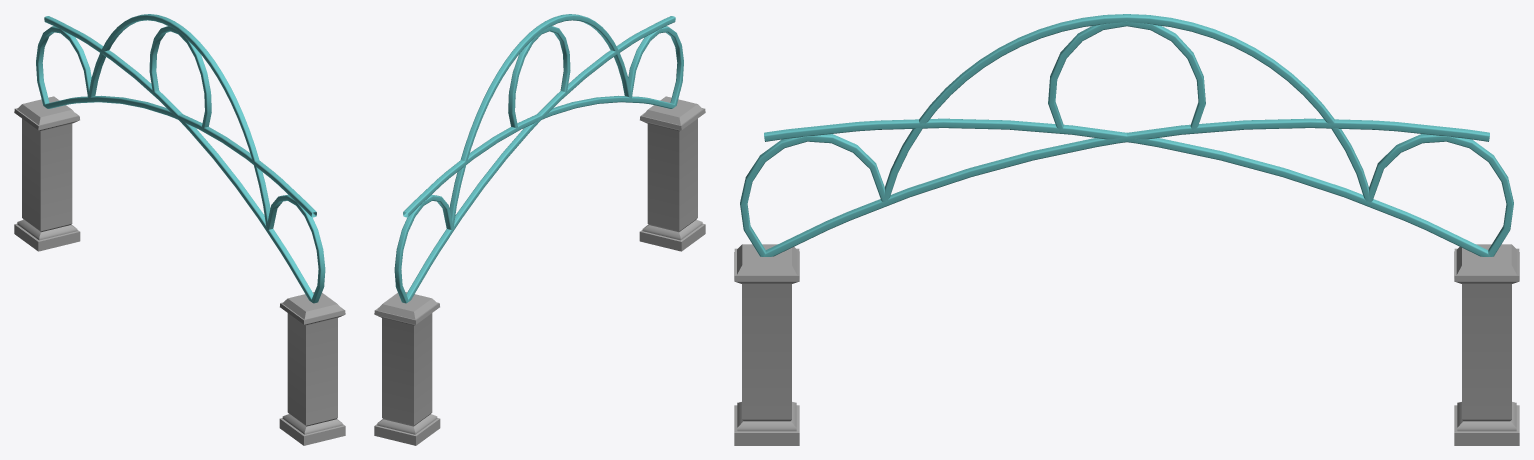
File: SM_archway.fbx
The picture shows the model from 3 angles, left to right: view 1: azimuth 30°, elevation 25°; view 2: azimuth 150°, elevation 25°; view 3: azimuth 270°, elevation 25°; orthographic projection. The views are drawn at different scales.
Visible parts, largest first — view 1: archway; view 2: archway; view 3: archway.
Part boxes in pixels (bbox=[...]): archway: bbox=[14, 14, 345, 445]; archway: bbox=[374, 14, 705, 445]; archway: bbox=[734, 14, 1519, 445].
Bounding box in the file's own units: 1 × 7.04 × 12.
